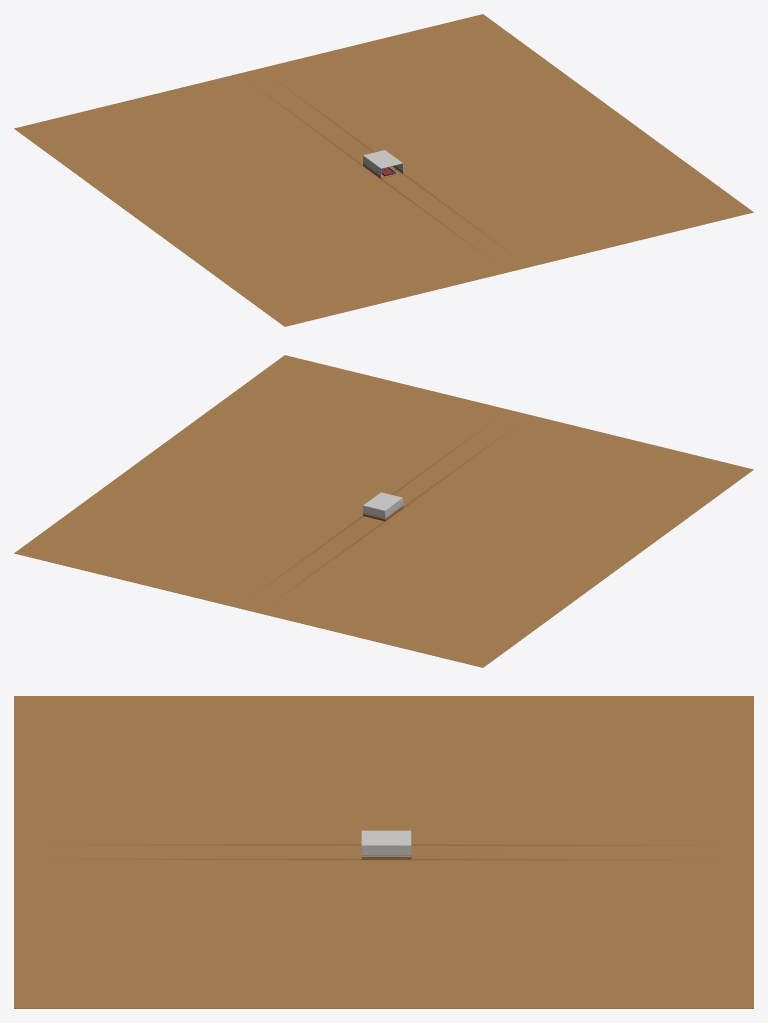
Rendered from tt-CNkxBPhk.glb.
The picture shows the model from 3 angles, top to bottom: view 1: azimuth 30°, elevation 25°; view 2: azimuth 150°, elevation 25°; view 3: azimuth 270°, elevation 25°; orthographic projection. The views are drawn at different scales.
Visible parts, largest first — view 1: arena; view 2: arena; view 3: arena.
Part boxes in pixels (x1=…): arena: x1=14, y1=14, x2=753, y2=326; arena: x1=14, y1=355, x2=753, y2=667; arena: x1=14, y1=696, x2=753, y2=1008.
Bounding box in the file's own units: 300 × 6.52 × 300.
